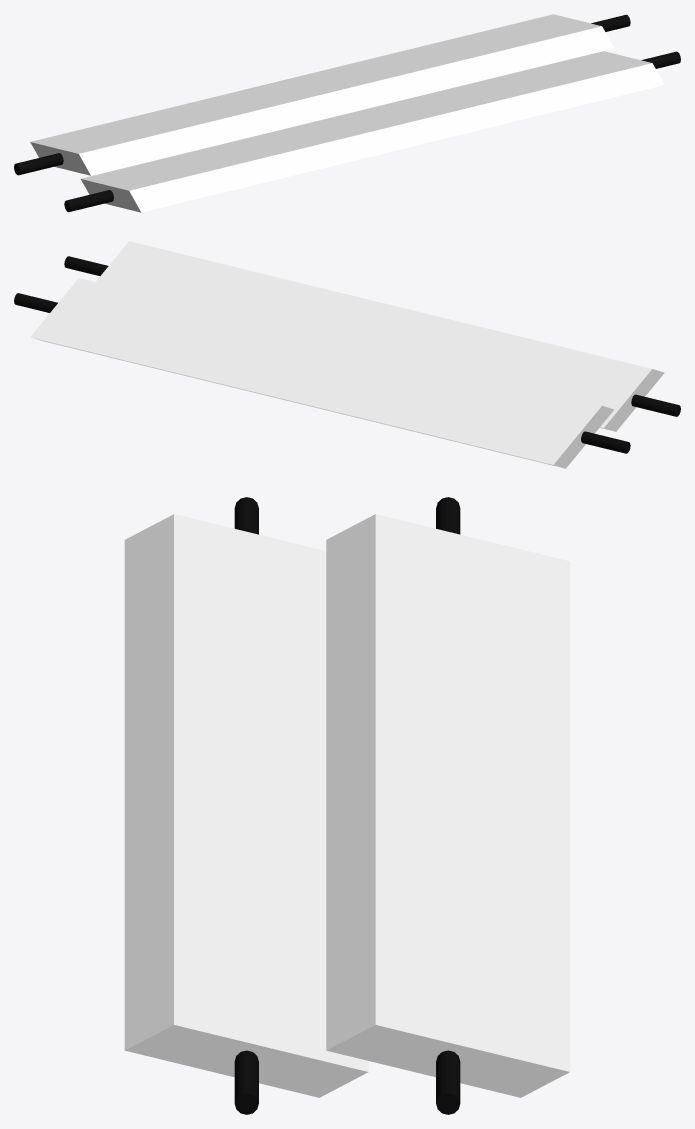
Rendered from Fit_BaiYe_1X3_on.FBX.
The picture shows the model from 3 angles, top to bottom: view 1: azimuth 30°, elevation 25°; view 2: azimuth 150°, elevation 25°; view 3: azimuth 270°, elevation 25°; orthographic projection. The views are drawn at different scales.
Visible parts, largest first — view 1: Box002; view 2: Box002; view 3: Box002.
Part boxes in pixels (x1=…): Box002: x1=14, y1=14, x2=680, y2=212; Box002: x1=14, y1=241, x2=680, y2=468; Box002: x1=124, y1=497, x2=570, y2=1114.
Bounding box in the file's own units: 3.5 × 0.2001 × 1.11.
